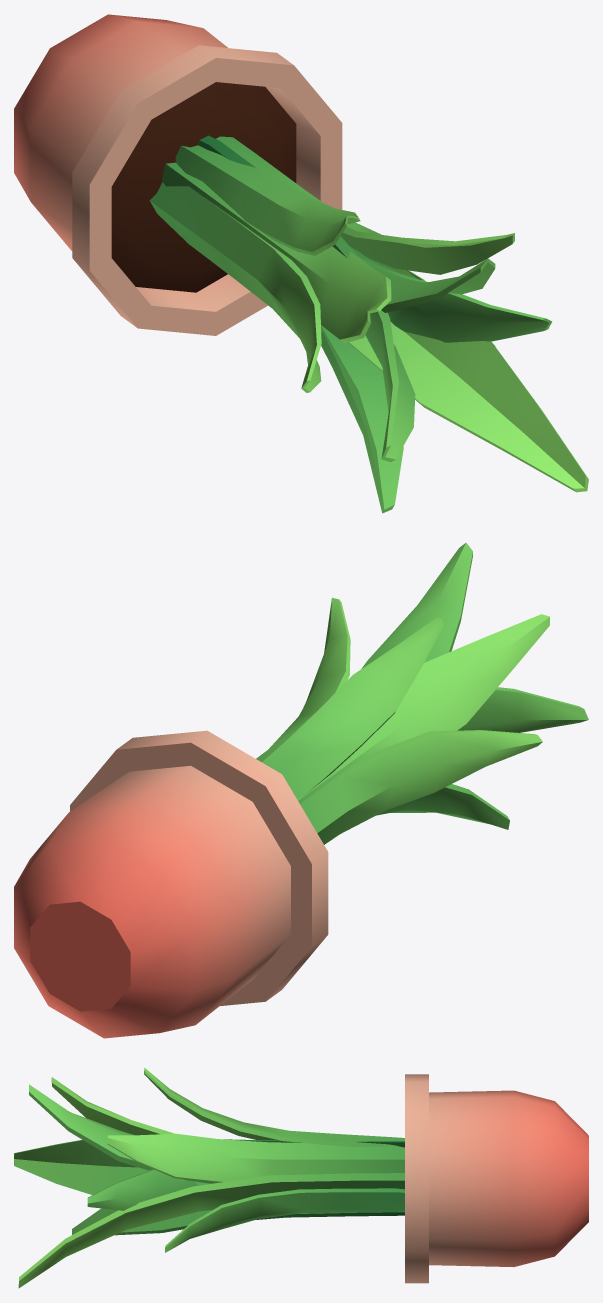
The model's file is Plant2.fbx.
The picture shows the model from 3 angles, top to bottom: view 1: azimuth 30°, elevation 25°; view 2: azimuth 150°, elevation 25°; view 3: azimuth 270°, elevation 25°; orthographic projection. The views are drawn at different scales.
Visible parts, largest first — view 1: Plant2; view 2: Plant2; view 3: Plant2.
Boxes of the visible parts, x1,y1,x2,y2 form: Plant2: (14,14,588,513); Plant2: (14,543,588,1038); Plant2: (14,1067,588,1288).
Bounding box in the file's own units: 60.92 × 62.5 × 169.
